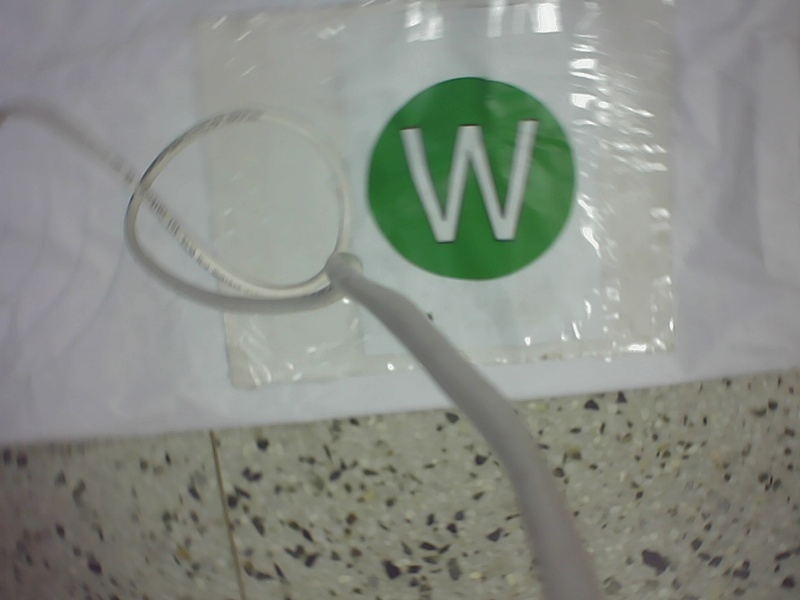areaB: (354, 72, 621, 288)
